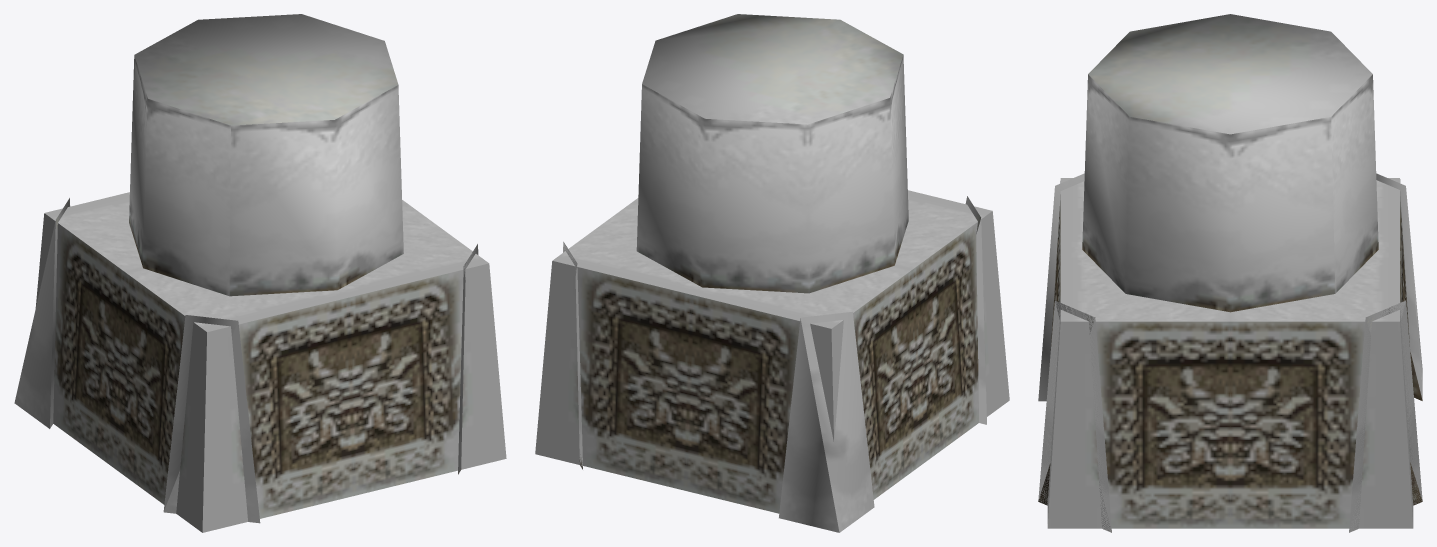
Rendered from general_obj_bigtower09_lod_01.fbx.
The picture shows the model from 3 angles, left to right: view 1: azimuth 30°, elevation 25°; view 2: azimuth 150°, elevation 25°; view 3: azimuth 270°, elevation 25°; orthographic projection. The views are drawn at different scales.
Visible parts, largest first — view 1: Sphere01; view 2: Sphere01; view 3: Sphere01.
Part boxes in pixels (box(x1,y1,x2,y2)): Sphere01: box(14, 14, 506, 532); Sphere01: box(535, 14, 1009, 532); Sphere01: box(1038, 14, 1422, 532).
Size of the model in its own units: 5.22 by 5.64 by 5.21.
